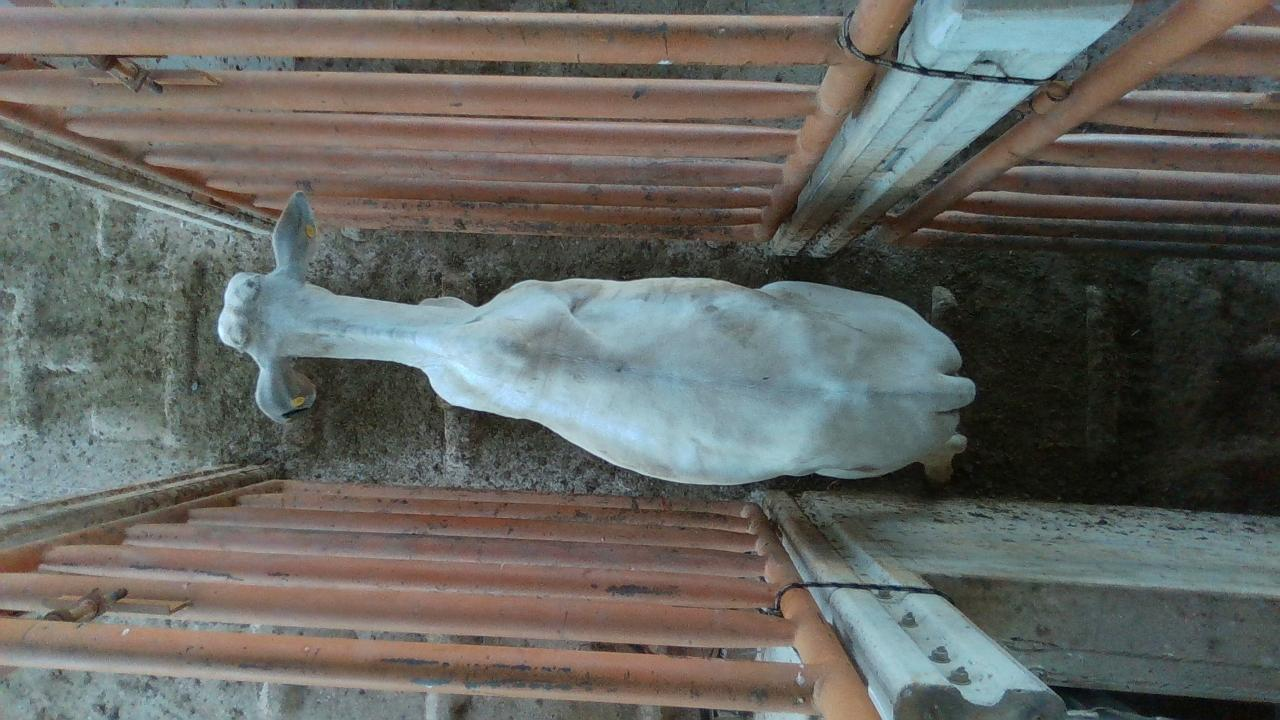cattle: (215, 188, 976, 487)
